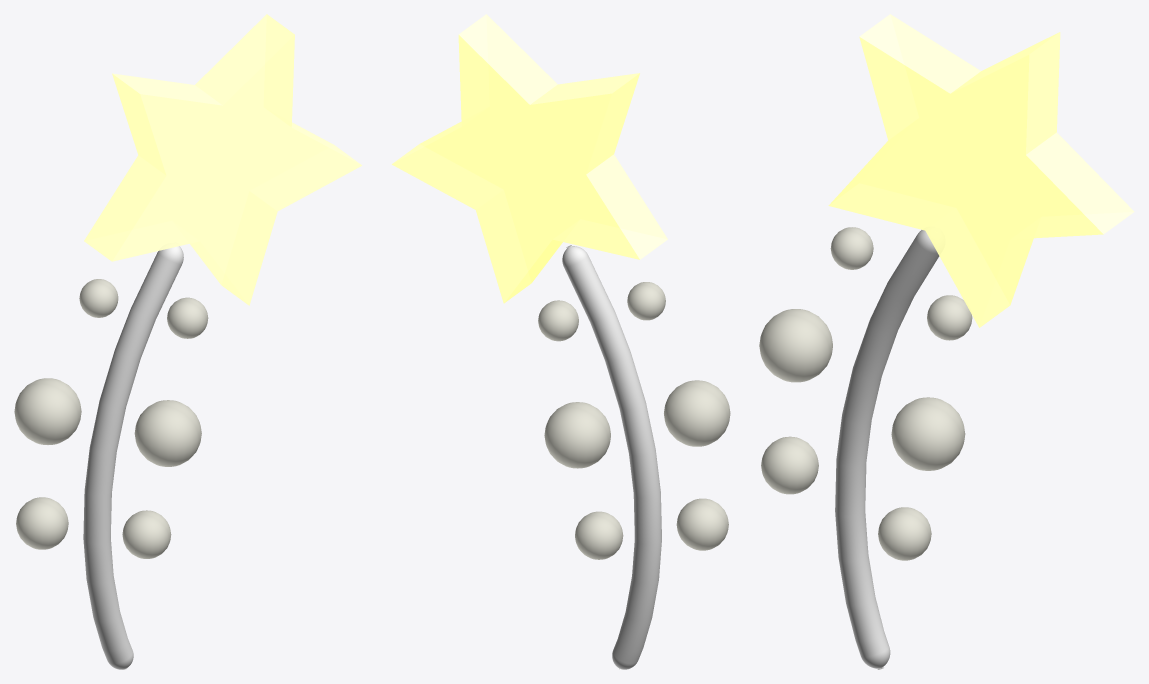
File: Star Flower.fbx
The picture shows the model from 3 angles, left to right: view 1: azimuth 30°, elevation 25°; view 2: azimuth 150°, elevation 25°; view 3: azimuth 330°, elevation 25°; orthographic projection. The views are drawn at different scales.
Parts seen in each view (by area): view 1: Extrude_1, stem, Sphere_4, Sphere_1, Sphere_2, Sphere_5, Sphere_3, Sphere; view 2: Extrude_1, stem, Sphere_1, Sphere_4, Sphere_2, Sphere_5, Sphere_3, Sphere; view 3: Extrude_1, stem, Sphere_4, Sphere_1, Sphere_2, Sphere_5, Sphere_3, Sphere.
Part boxes in pixels (box(x1,y1,x2,y2)): Extrude_1: box(84, 14, 361, 305); stem: box(83, 246, 183, 669); Sphere_4: box(134, 400, 201, 466); Sphere_1: box(14, 378, 81, 444); Sphere_2: box(16, 497, 68, 549); Sphere_5: box(122, 510, 171, 558); Sphere_3: box(167, 297, 208, 338); Sphere: box(79, 279, 118, 317); Extrude_1: box(392, 14, 667, 303); stem: box(562, 245, 661, 669); Sphere_1: box(664, 380, 730, 446); Sphere_4: box(544, 402, 610, 468); Sphere_2: box(676, 498, 728, 550); Sphere_5: box(575, 511, 623, 559); Sphere_3: box(538, 300, 578, 341); Sphere: box(627, 282, 665, 320); Extrude_1: box(828, 14, 1134, 327); stem: box(835, 230, 939, 669); Sphere_4: box(891, 397, 965, 470); Sphere_1: box(759, 309, 832, 382); Sphere_2: box(761, 436, 818, 494); Sphere_5: box(878, 507, 931, 560); Sphere_3: box(927, 295, 972, 340); Sphere: box(830, 227, 873, 269).
Size of the model in its own units: 22.19 by 39.64 by 4.03.
